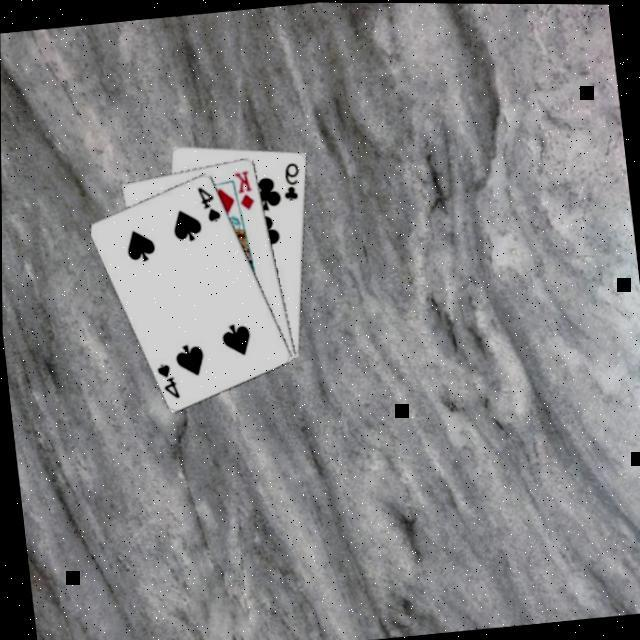4S: (195, 182, 225, 225), (154, 359, 184, 402)
9C: (280, 158, 306, 204)
KD: (232, 167, 258, 213)
